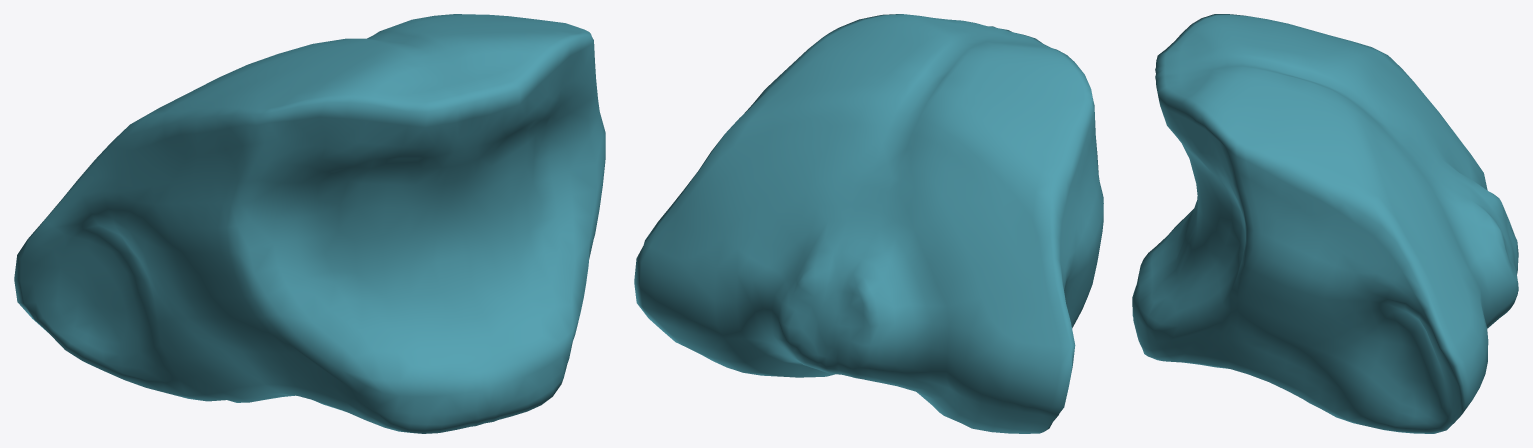
Rendered from VIS_Alpha_Surface_011.dae.
The picture shows the model from 3 angles, left to right: view 1: azimuth 30°, elevation 25°; view 2: azimuth 150°, elevation 25°; view 3: azimuth 270°, elevation 25°; orthographic projection. The views are drawn at different scales.
Visible parts, largest first — view 1: VIS_Alpha_Surface_011; view 2: VIS_Alpha_Surface_011; view 3: VIS_Alpha_Surface_011.
Boxes of the visible parts, left/top/right/bottom form: VIS_Alpha_Surface_011: left=14, top=14, right=605, bottom=433; VIS_Alpha_Surface_011: left=634, top=14, right=1103, bottom=433; VIS_Alpha_Surface_011: left=1132, top=14, right=1518, bottom=433.
Size of the model in its own units: 44.53 by 33.13 by 28.29.
